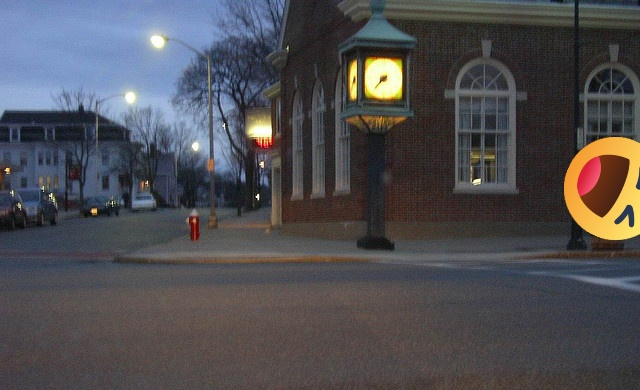haha: (564, 137, 640, 240)
